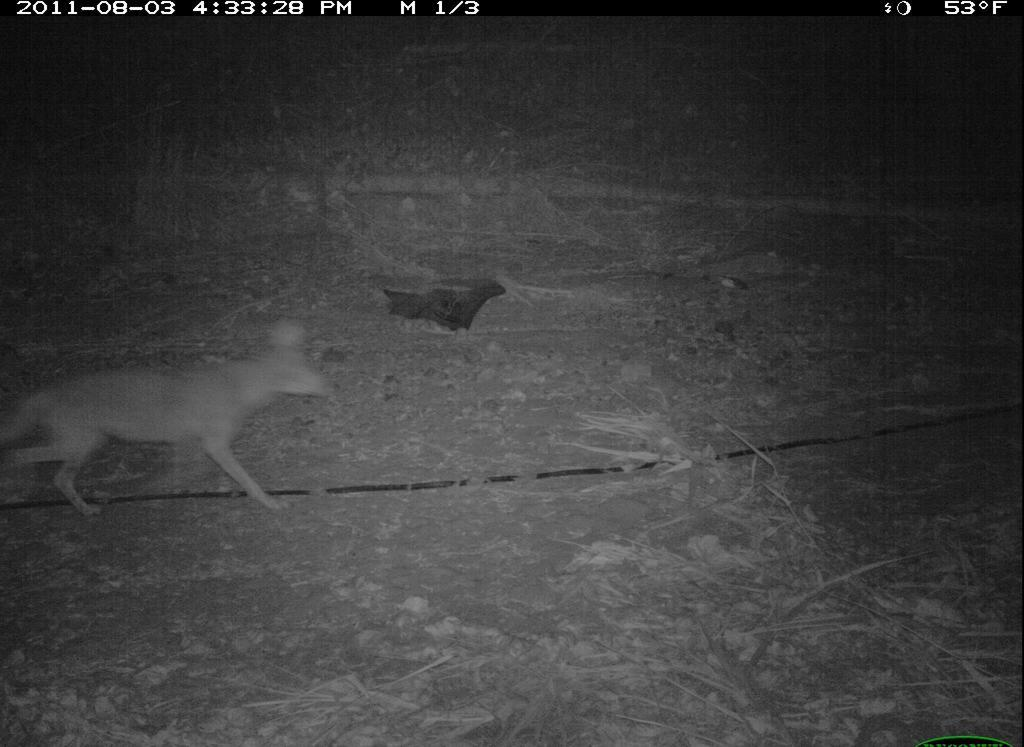coyote: (3, 344, 367, 532)
